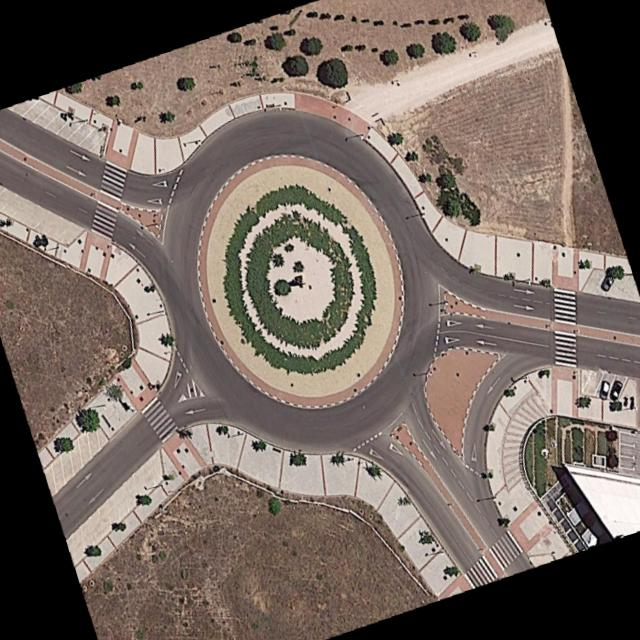small-vehicle: (608, 378, 623, 402), (598, 273, 615, 294), (597, 379, 609, 401)
